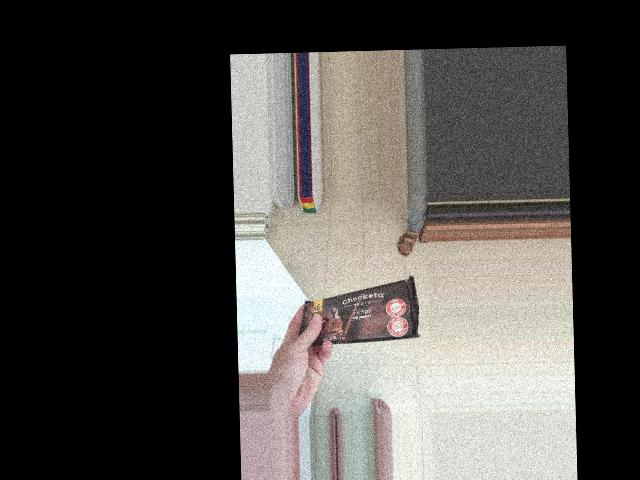chocolate: (300, 273, 422, 356)
